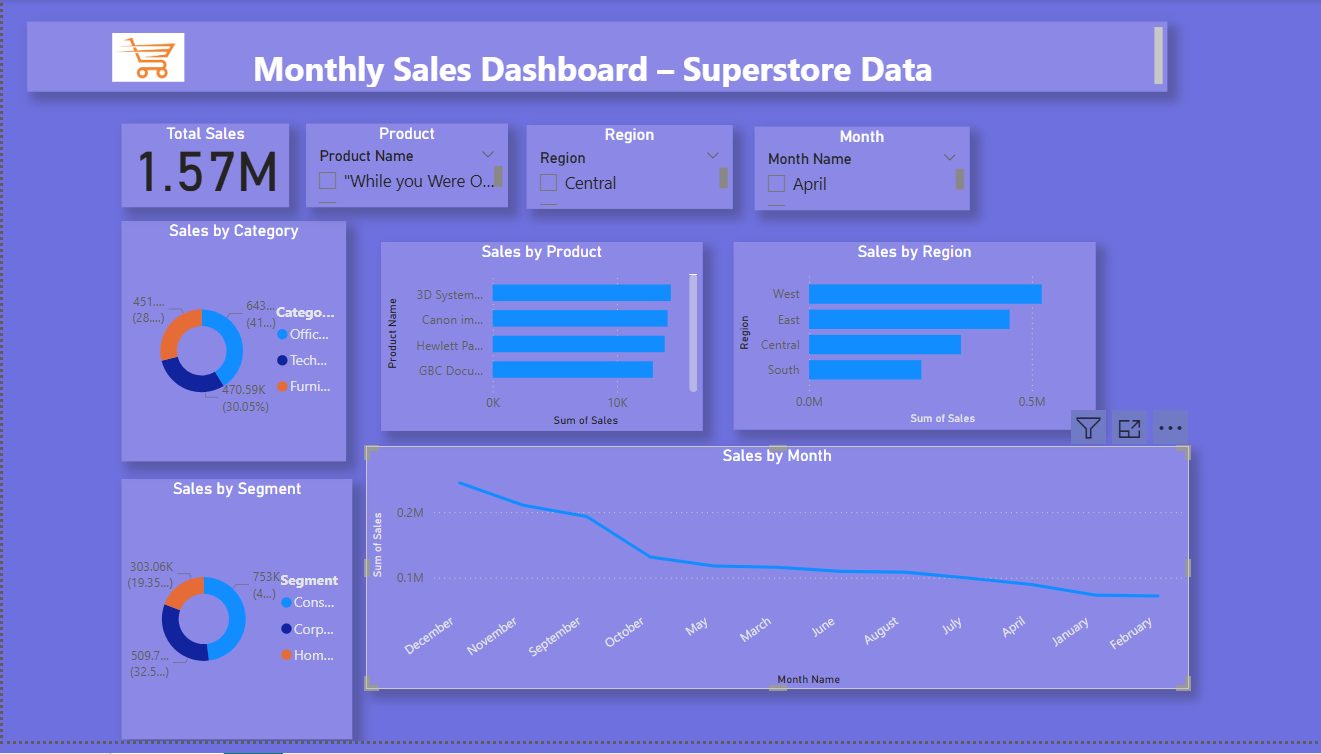

This screenshot's page, from the dashboard's own definition file:
{"tool":"powerbi","page":{"name":"Page 1","canvas":[1280,720],"ordinal":0},"visuals":[{"type":"card","title":"Total Sales","fields":{"Values":["Sum(Sheet1.Sales)"]},"box":[22.7,107.5,162,81.8],"z":0},{"type":"barChart","title":"Sales by Product ","fields":{"Category":["Sheet1.Product Name"],"Y":["Sum(Sheet1.Sales)"]},"box":[295.5,442.5,311.5,211.1],"z":1000},{"type":"lineChart","title":"Sales by Month ","fields":{"Category":["Sheet1.Month Name"],"Y":["Sum(Sheet1.Sales)"]},"box":[274.1,210.5,737.4,212],"z":2000},{"type":"donutChart","title":"Sales by Category","fields":{"Y":["Sum(Sheet1.Sales)"],"Category":["Sheet1.Category"]},"box":[32,211.1,218.3,232.9],"z":3000},{"type":"barChart","title":"Sales by Region","fields":{"Category":["Sheet1.Region"],"Y":["Sum(Sheet1.Sales)"]},"box":[617.2,443.9,350.8,209.6],"z":4000},{"type":"slicer","title":"Product","fields":{"Values":["Sheet1.Product Name"]},"box":[199.9,109,195.3,81.8],"z":5000},{"type":"slicer","title":"Region","fields":{"Values":["Sheet1.Region"]},"box":[420.9,110.5,199.9,81.8],"z":6000},{"type":"slicer","title":"Month","fields":{"Values":["Sheet1.Month Name"]},"box":[651.1,113.6,207.4,81.8],"z":7000},{"type":"donutChart","title":"Sales by Segment","fields":{"Category":["Sheet1.Segment"],"Y":["Sum(Sheet1.Sales)"]},"box":[55.3,465.8,224.2,253.3],"z":8000},{"type":"textbox","box":[22.7,21.2,1106.9,68.1],"z":9000},{"type":"image","box":[56,27.3,171.1,57.5],"z":10000},{"type":"textbox","box":[981,442.5,280.9,211.1],"z":11000}]}

Visuals, with their boxes in screenshot pixels (x1, y1, x2, y2), scaled from the page's 1280x720 canvas onto the 1321x754 screenshot:
"Total Sales" card: (23,113,191,198)
"Sales by Product " barChart: (305,463,626,684)
"Sales by Month " lineChart: (283,220,1044,442)
"Sales by Category" donutChart: (33,221,258,465)
"Sales by Region" barChart: (637,465,999,684)
"Product" slicer: (206,114,408,200)
"Region" slicer: (434,116,641,201)
"Month" slicer: (672,119,886,205)
"Sales by Segment" donutChart: (57,488,288,753)
textbox: (23,22,1166,94)
image: (58,29,234,89)
textbox: (1012,463,1302,684)
